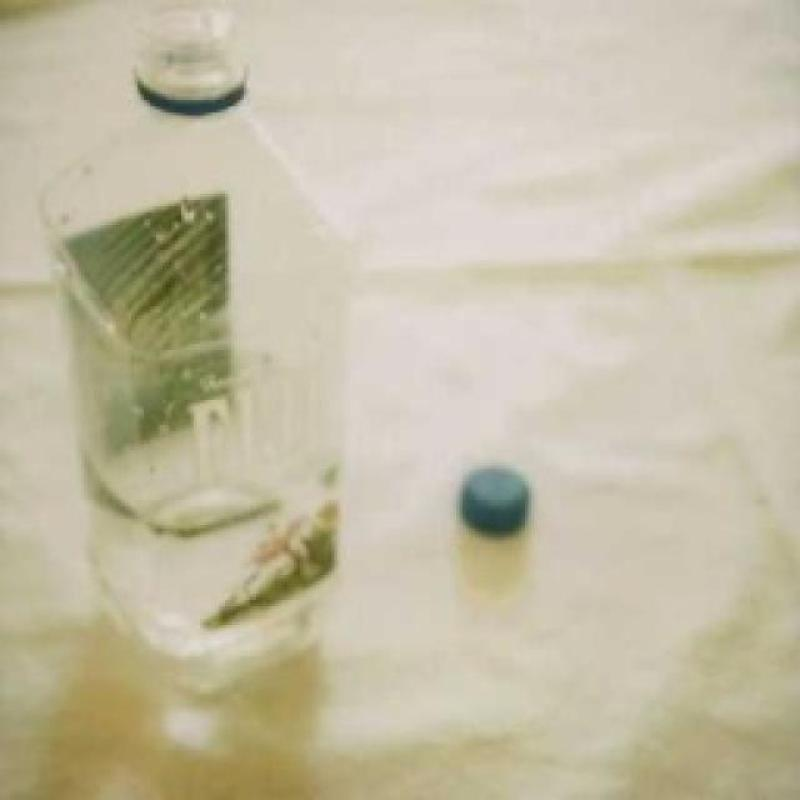botella: (36, 10, 358, 690)
